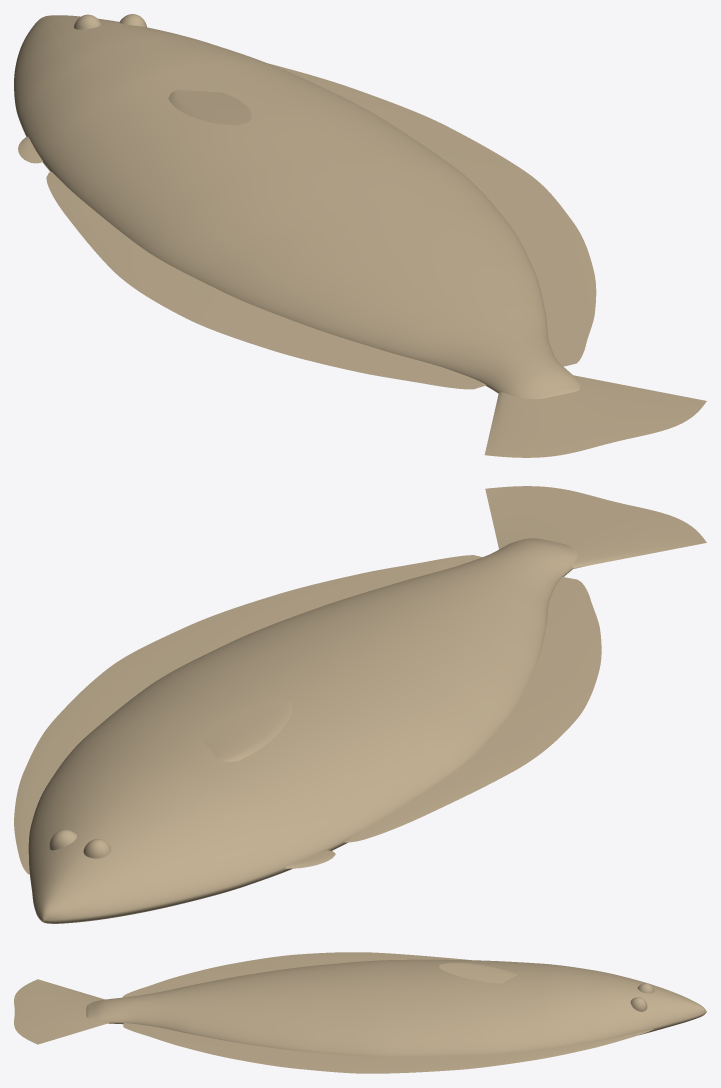
The model's file is california_halibut.glb.
The picture shows the model from 3 angles, top to bottom: view 1: azimuth 30°, elevation 25°; view 2: azimuth 150°, elevation 25°; view 3: azimuth 270°, elevation 25°; orthographic projection. The views are drawn at different scales.
Parts seen in each view (by area): view 1: california_halibut; view 2: california_halibut; view 3: california_halibut.
Boxes of the visible parts, x1,y1,x2,y2 form: california_halibut: [14, 14, 706, 457]; california_halibut: [14, 486, 706, 923]; california_halibut: [14, 952, 706, 1073].
Bounding box in the file's own units: 0.4151 × 0.0837 × 0.9997.
